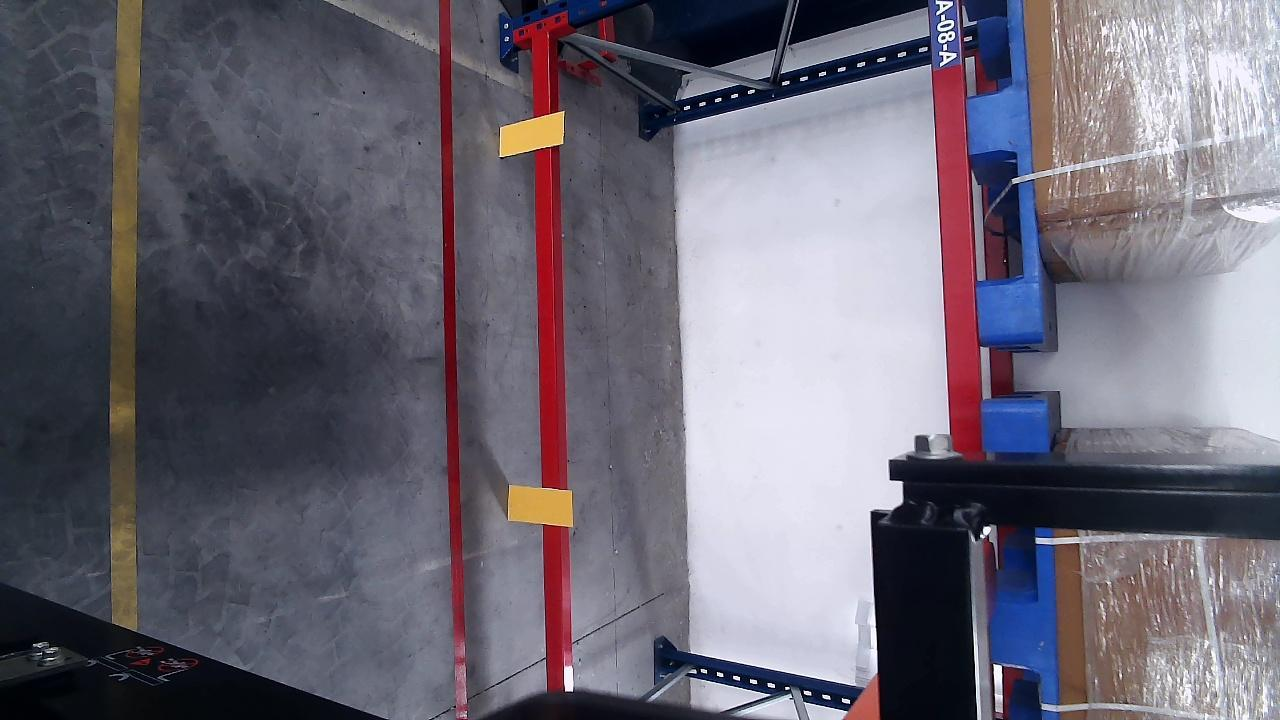h_rack: (527, 29, 574, 691), (927, 2, 981, 460)
orange_strip: (497, 110, 565, 158), (508, 483, 571, 525)
red_line: (438, 0, 472, 718)
small_pallet: (958, 0, 1045, 341), (976, 408, 1065, 720)
yellow_line: (107, 0, 146, 628)
